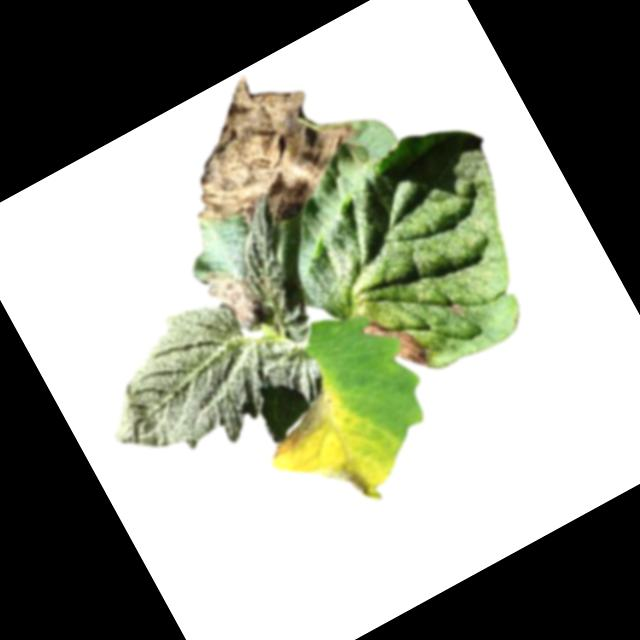Late_blight: (147, 37, 381, 257), (196, 253, 273, 343), (255, 390, 344, 462), (360, 304, 432, 384), (313, 447, 387, 523), (444, 292, 470, 320)
